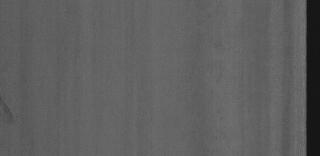water spot: (1, 93, 22, 131)
